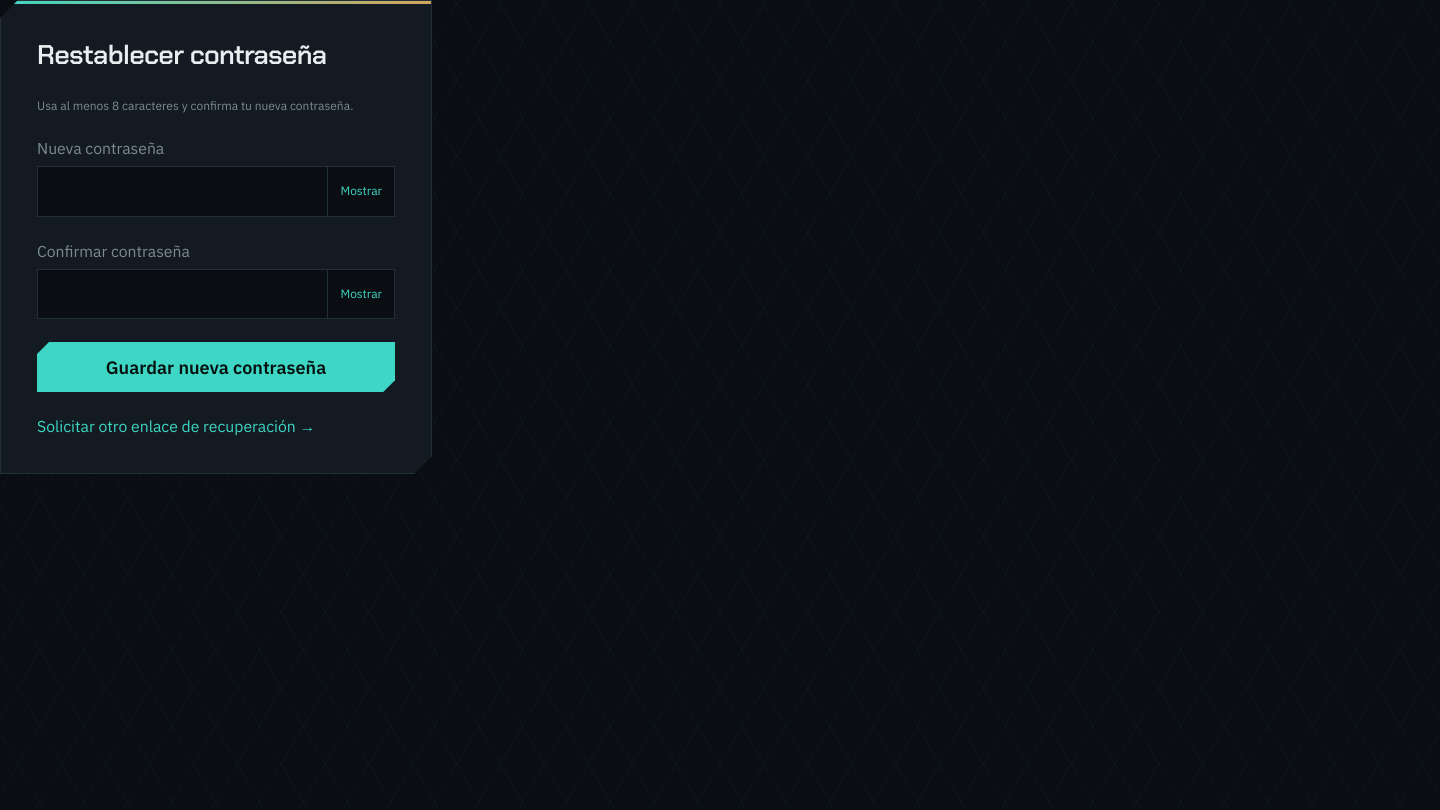
Test: ResetPasswordForm › muestra error si falla la conexión de red
Type "newpassword123" into the password field labelled "Nueva contraseña Mostrar" at (182, 192), box [37, 166, 327, 217]
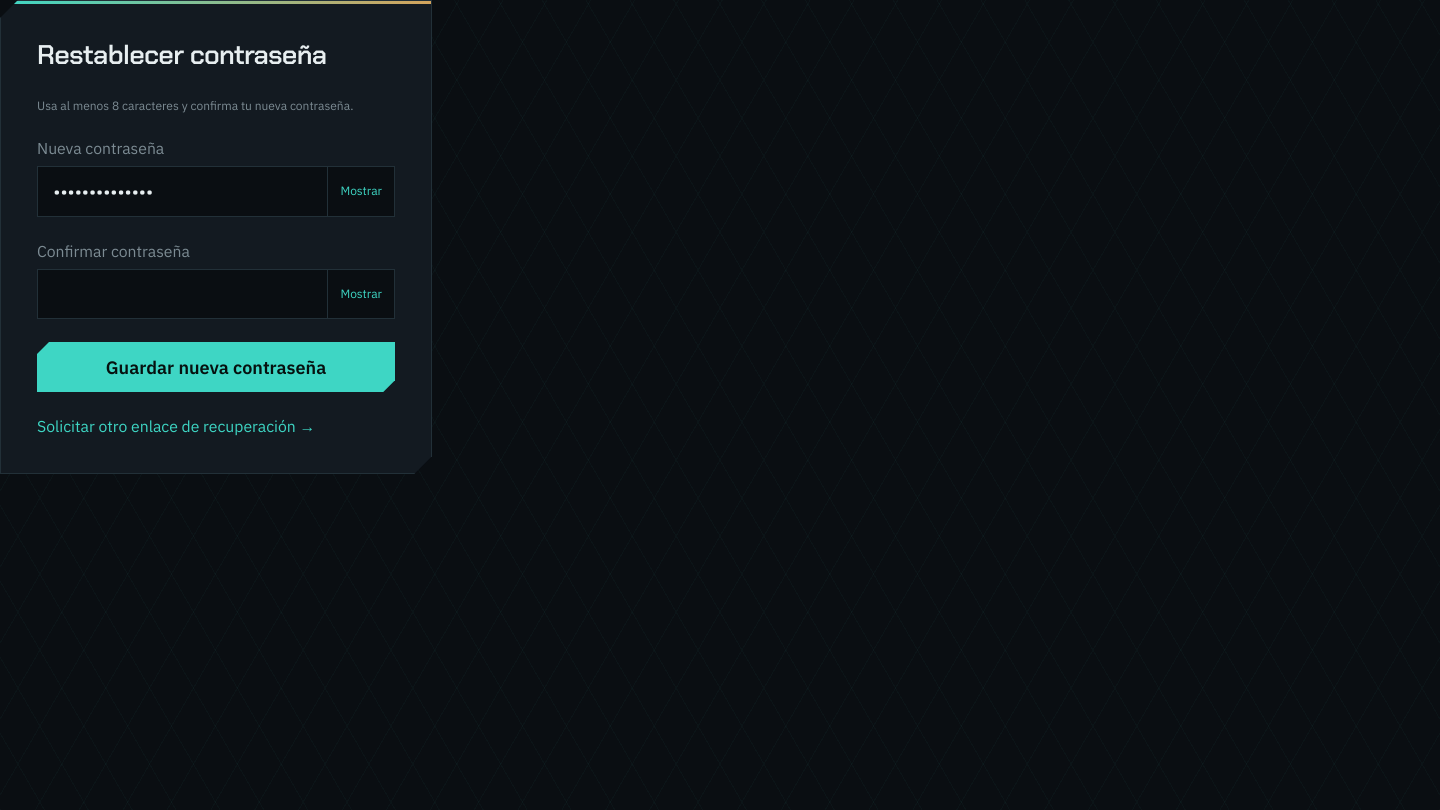
Type "newpassword123" into the password field labelled "Confirmar contraseña Mostrar" at (182, 294), box [37, 269, 327, 319]
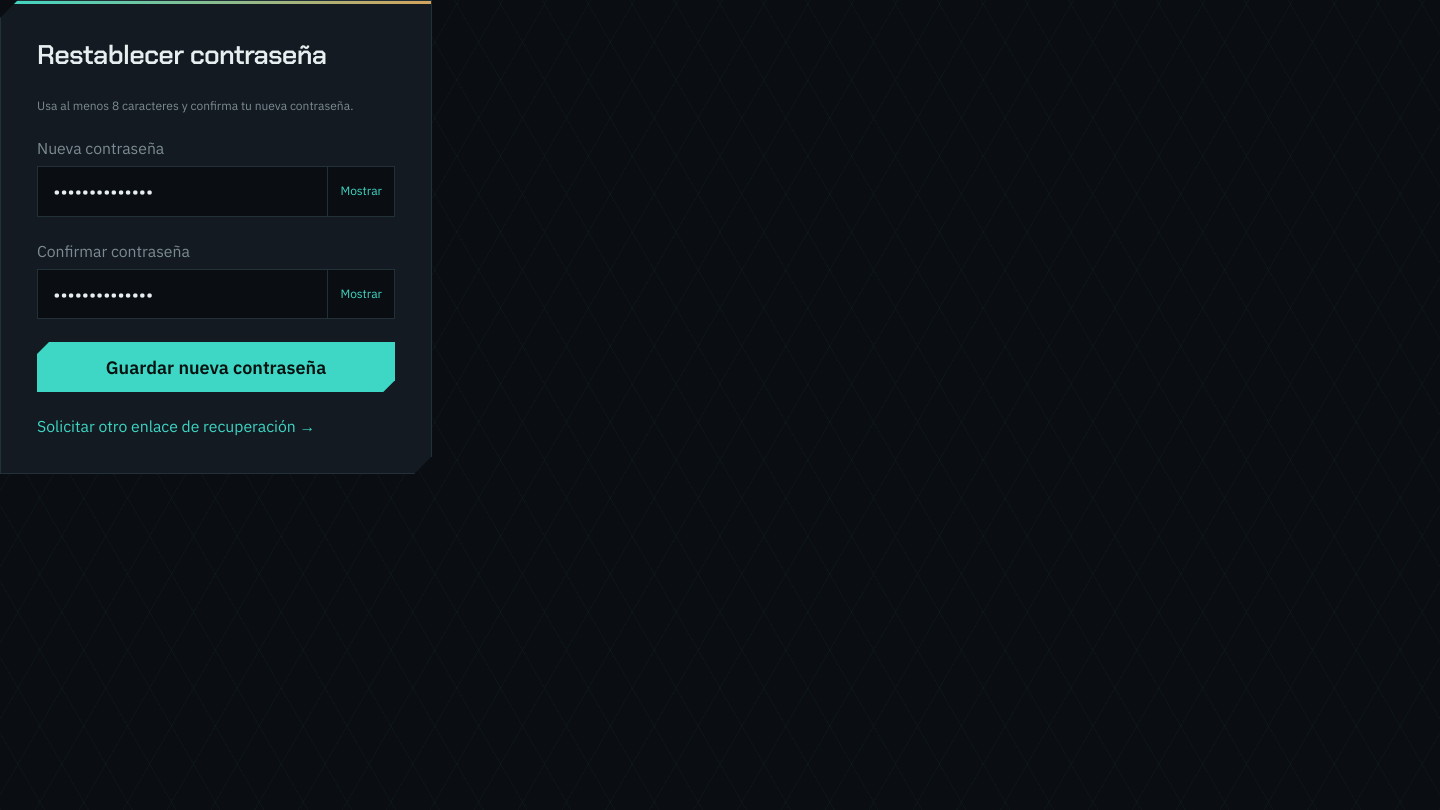
Click the button "Guardar nueva contraseña" at (216, 367), box [37, 342, 395, 392]
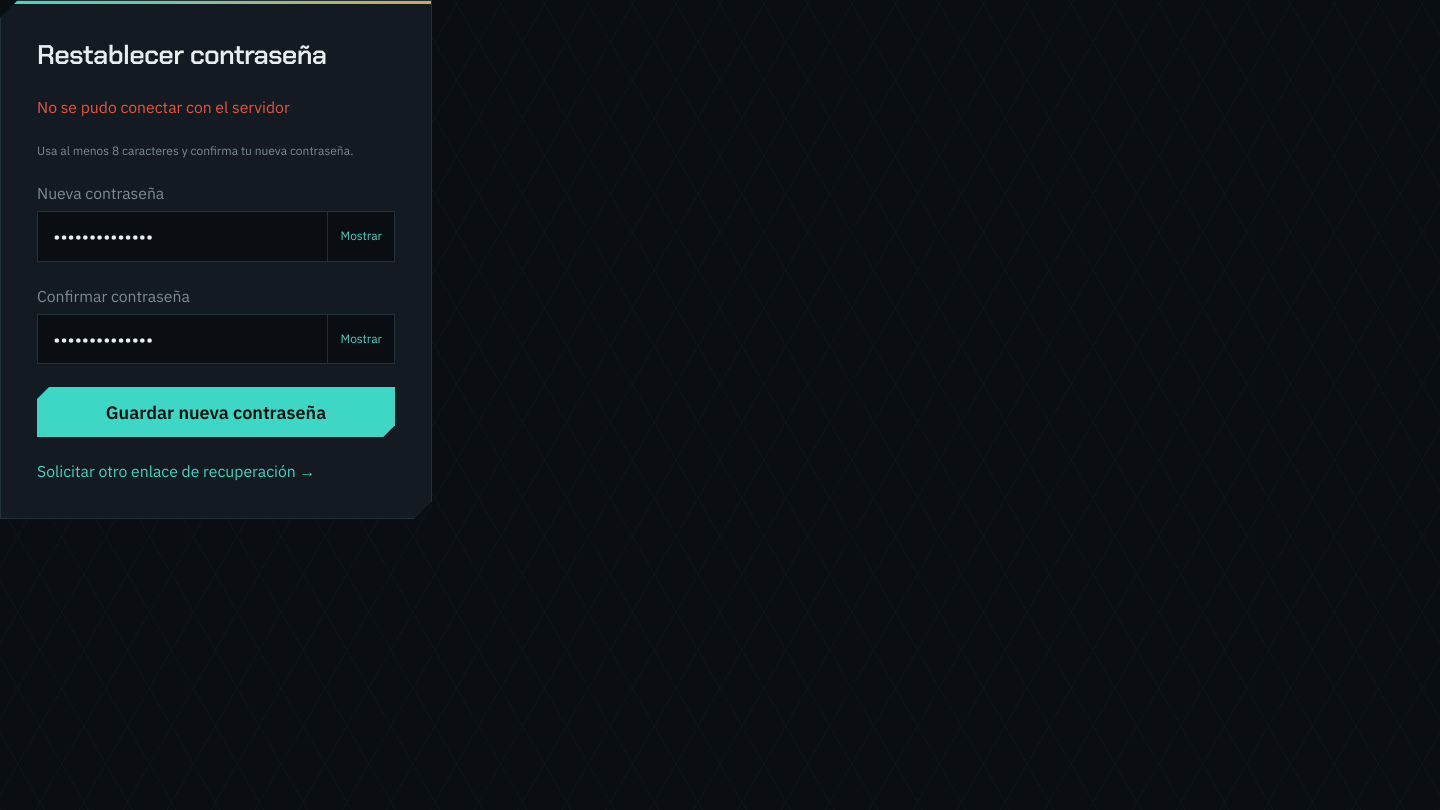
Now the message reads "No se pudo conectar con el servidor", box [37, 96, 290, 116]
